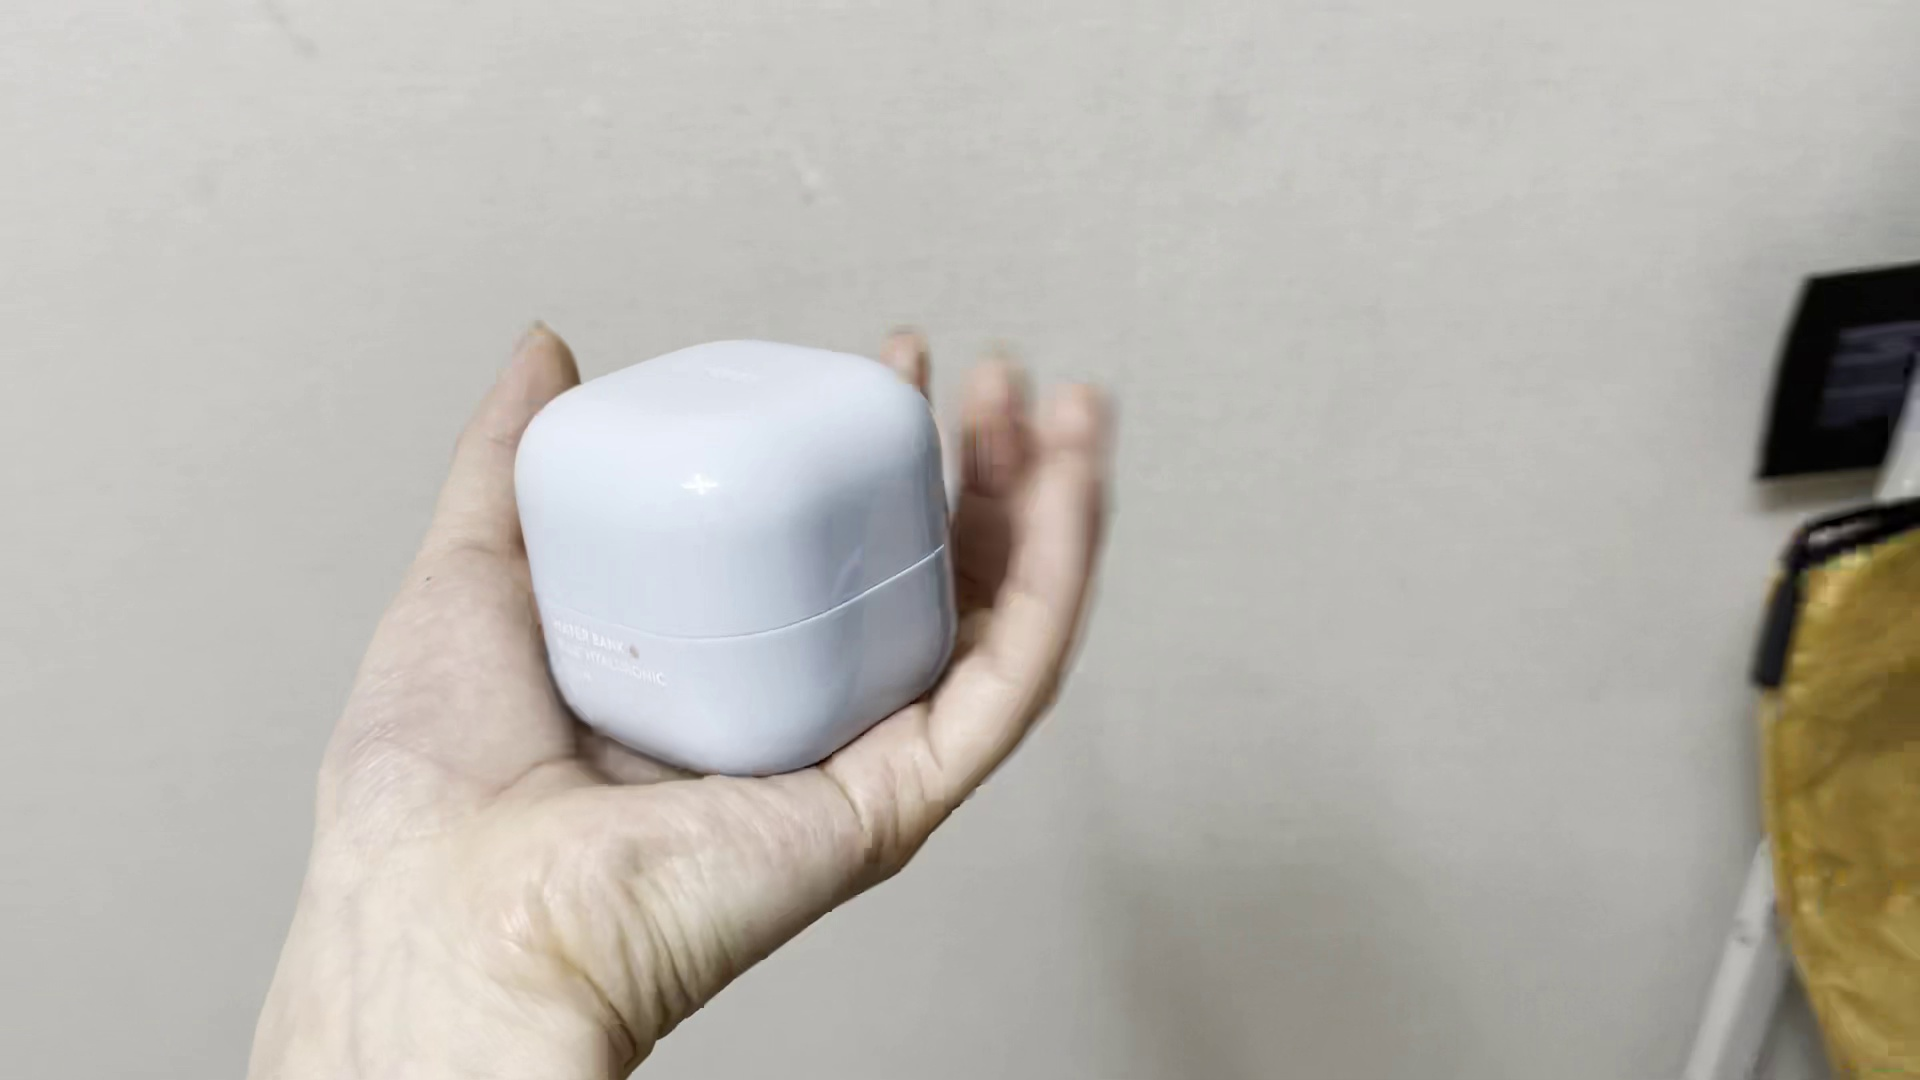cream: (512, 334, 957, 782)
